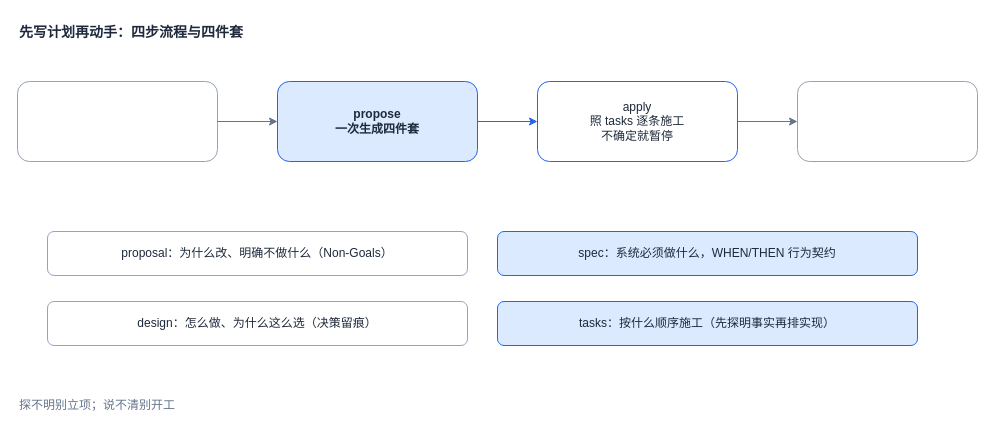
Some shapes in this 995 by 429 pixel diagram are drawn without their labels. The centre of each missing label's shape, as x and y in pixels:
"archive 合并主规格 按日期归档" belongs at point 887,121.
"explore 摊开问题，探明事实 （不写代码）" belongs at point 117,121.
